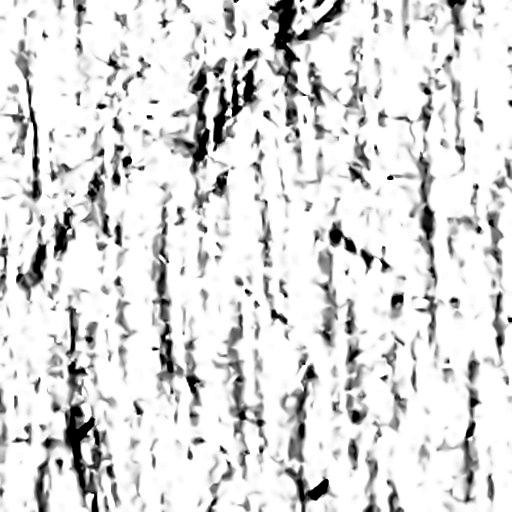egg: (73, 418, 93, 439), (308, 479, 328, 499)
